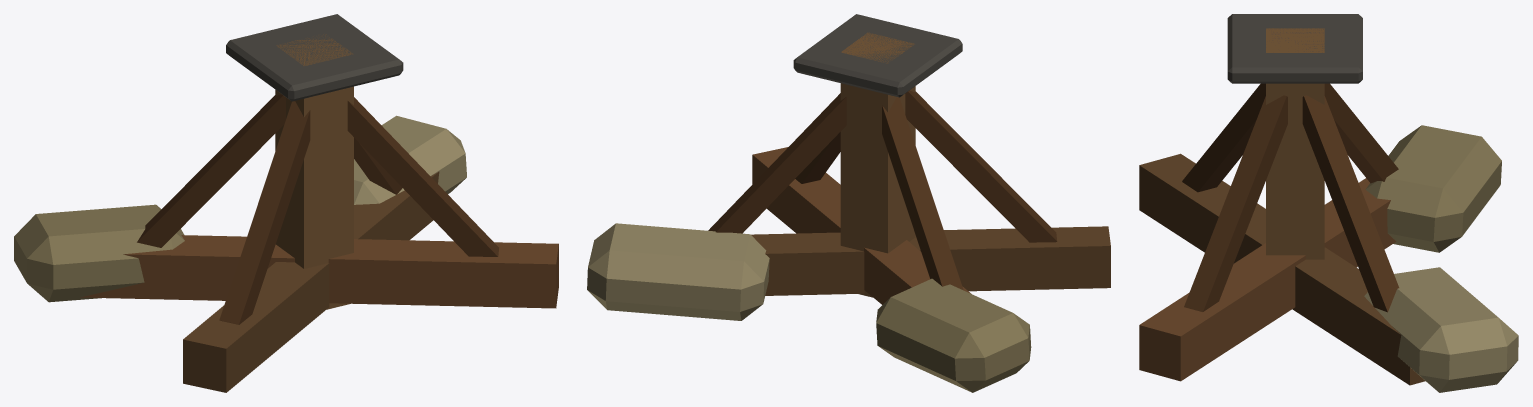
The model's file is rede_base.glb.
3 renders of one model, left to right at view 1: azimuth 30°, elevation 25°; view 2: azimuth 150°, elevation 25°; view 3: azimuth 270°, elevation 25°, orthographic. The views are drawn at different scales.
Parts seen in each view (by area): view 1: rede_base.001; view 2: rede_base.001; view 3: rede_base.001.
Boxes of the visible parts, x1,y1,x2,y2 form: rede_base.001: [14, 14, 558, 392]; rede_base.001: [587, 14, 1110, 392]; rede_base.001: [1139, 14, 1518, 392].
Bounding box in the file's own units: 1.16 × 0.6292 × 0.8413.
